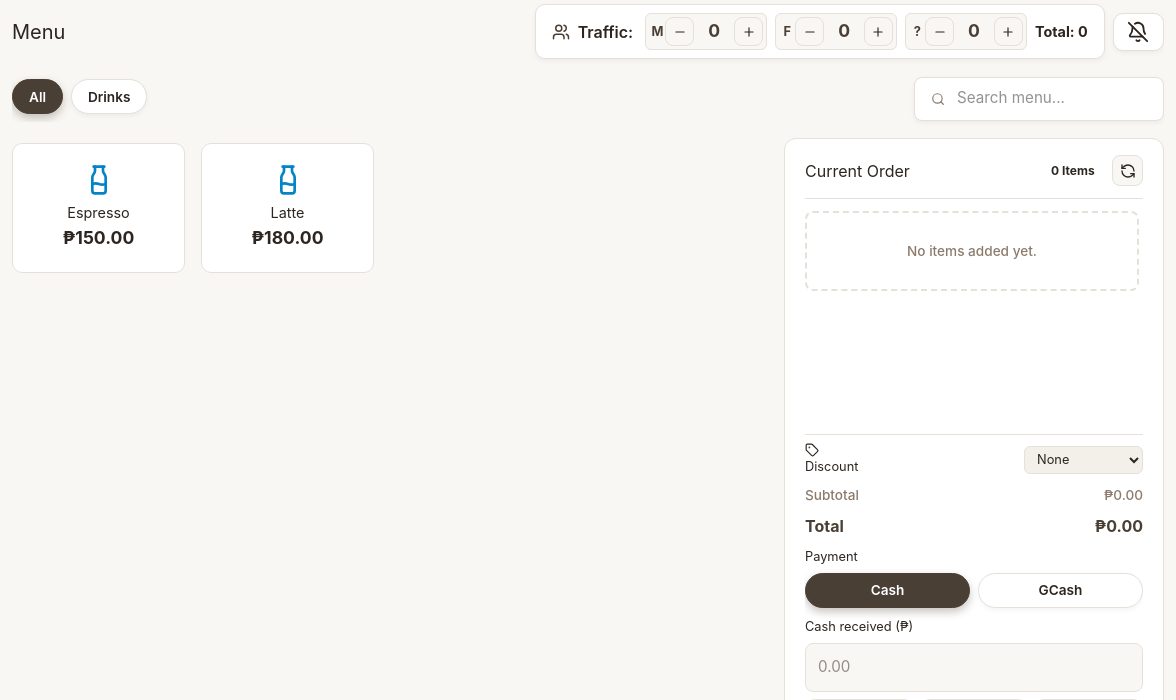
Test: MainPOS › should merge repeat taps of the same product into one line
This screenshot has width=1176, height=700.
Menu card is always the first match (cart lines render after the menu)
Click the heading "Espresso" at (99, 213), box [67, 204, 130, 221]
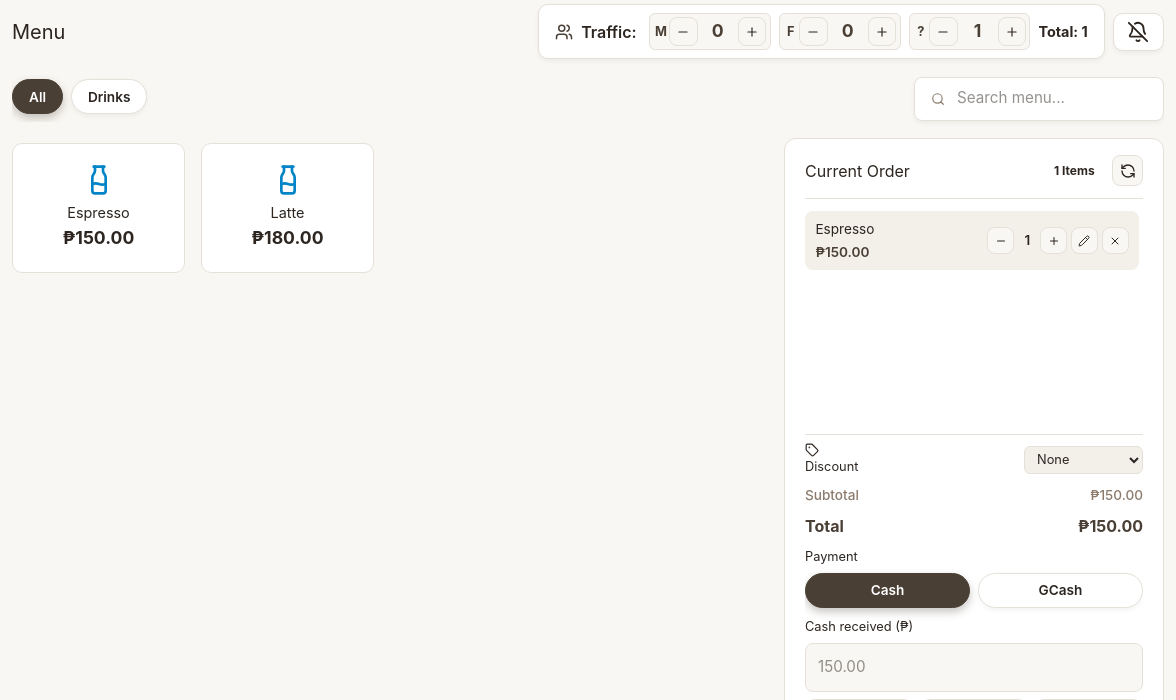
Click the 1st heading "Espresso" at (99, 213), box [67, 204, 130, 221]
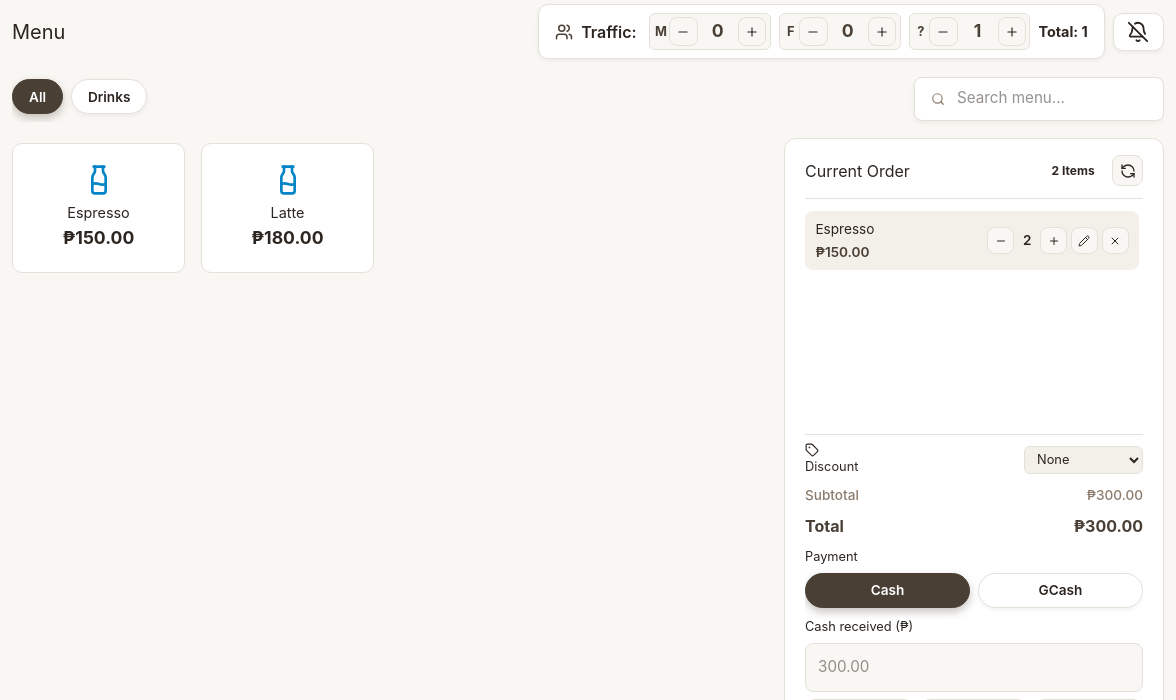
Expected: the number of headings "Espresso" is 2, [67, 204, 130, 221]; [815, 221, 874, 237]
Now the text "2 Items" is shown, box [1052, 163, 1095, 178]
